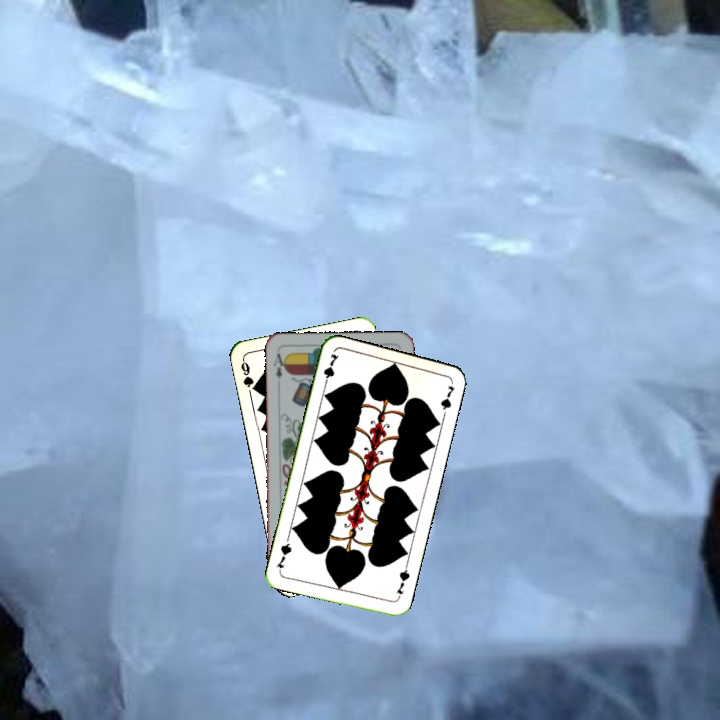EA: (269, 349, 288, 381)
G7: (319, 349, 341, 390), (392, 562, 412, 602)
G9: (237, 356, 260, 395)
